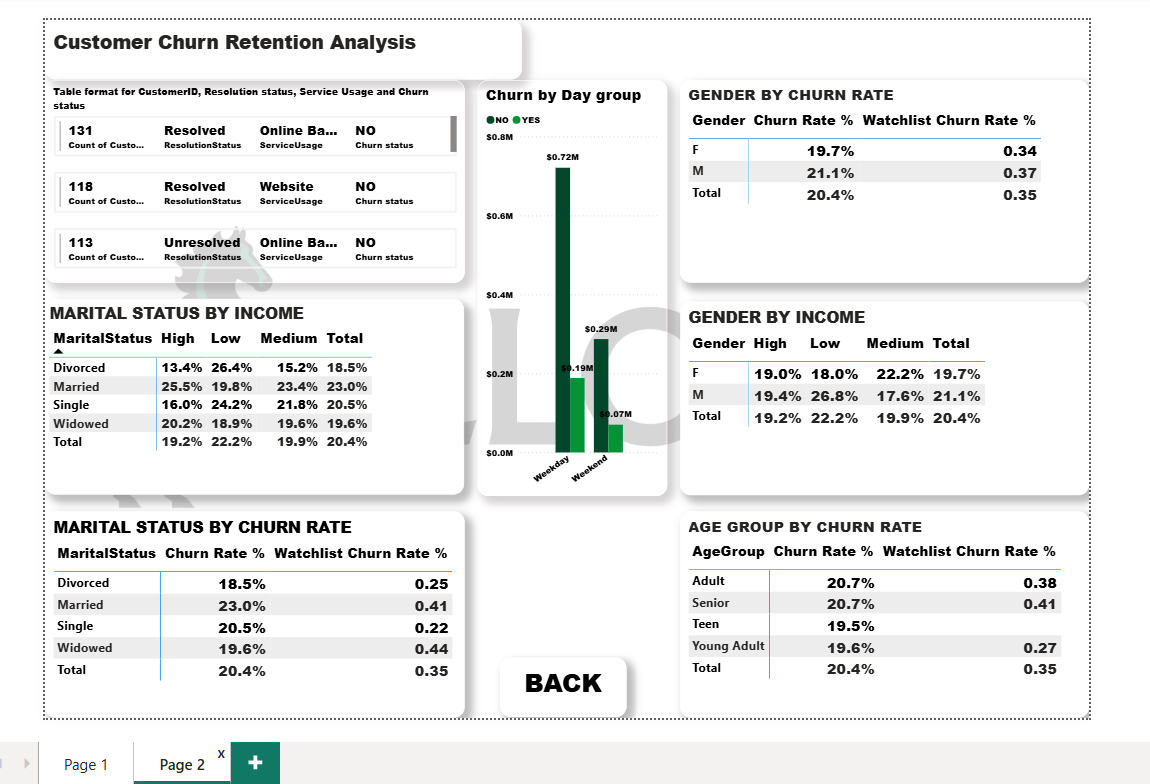

What the dashboard file says about the page in this screenshot:
{"tool":"powerbi","page":{"name":"Page 2","canvas":[1348,900],"ordinal":1},"visuals":[{"type":"textbox","box":[0,0,615,76.7],"z":0},{"type":"pivotTable","title":"MARITAL STATUS BY INCOME","fields":{"Columns":["Customer_Demographics.IncomeLevel"],"Rows":["Customer_Demographics.MaritalStatus"],"Values":["Customer_Demographics.Churn Rate %"]},"box":[0,360,541,253],"z":1000},{"type":"clusteredColumnChart","title":"Churn by Day group","fields":{"Category":["Transaction_History1.DayGroup"],"Series":["Customer_Demographics.Churn status"],"Y":["Sum(Transaction_History1.AmountSpent)"]},"box":[558.3,76.7,245,536.7],"z":2000},{"type":"multiRowCard","title":"Table format for CustomerID, Resolution status, Service Usage and Churn status","fields":{"Values":["Customer_Service2.CustomerID","Customer_Service2.ResolutionStatus","Online_Activity3.ServiceUsage","Customer_Demographics.Churn status"]},"box":[0,76.7,541.7,261.7],"z":3000},{"type":"pivotTable","title":"MARITAL STATUS BY CHURN RATE","fields":{"Rows":["Customer_Demographics.MaritalStatus"],"Values":["Customer_Demographics.Churn Rate %","Online_Activity.Watchlist Churn Rate %"]},"box":[0,633.3,541.7,266.7],"z":4000},{"type":"pivotTable","title":"GENDER BY INCOME","fields":{"Columns":["Customer_Demographics.IncomeLevel"],"Rows":["Customer_Demographics.Gender"],"Values":["Customer_Demographics.Churn Rate %"]},"box":[820,363.3,528.3,250],"z":5000},{"type":"pivotTable","title":"AGE GROUP BY CHURN RATE","fields":{"Rows":["Customer_Demographics.AgeGroup"],"Values":["Customer_Demographics.Churn Rate %","Online_Activity.Watchlist Churn Rate %"]},"box":[820,633.3,528.3,266.7],"z":6000},{"type":"pivotTable","title":"GENDER BY CHURN RATE","fields":{"Rows":["Customer_Demographics.Gender"],"Values":["Customer_Demographics.Churn Rate %","Online_Activity.Watchlist Churn Rate %"]},"box":[820,76.7,528.3,261.7],"z":7000},{"type":"actionButton","box":[586.7,823.3,163.3,76.7],"z":8000}]}

Visuals, with their boxes on the page's 1348x900 design canvas (x1, y1, x2, y2). These are canvas units, not pixel positions in the 1150x784 screenshot, which may show the page scaled, cropped or inside an application window:
textbox: detection(0, 0, 615, 77)
"MARITAL STATUS BY INCOME" pivotTable: detection(0, 360, 541, 613)
"Churn by Day group" clusteredColumnChart: detection(558, 77, 803, 613)
"Table format for CustomerID, Resolution status, Service Usage and Churn status" multiRowCard: detection(0, 77, 542, 338)
"MARITAL STATUS BY CHURN RATE" pivotTable: detection(0, 633, 542, 900)
"GENDER BY INCOME" pivotTable: detection(820, 363, 1348, 613)
"AGE GROUP BY CHURN RATE" pivotTable: detection(820, 633, 1348, 900)
"GENDER BY CHURN RATE" pivotTable: detection(820, 77, 1348, 338)
actionButton: detection(587, 823, 750, 900)
